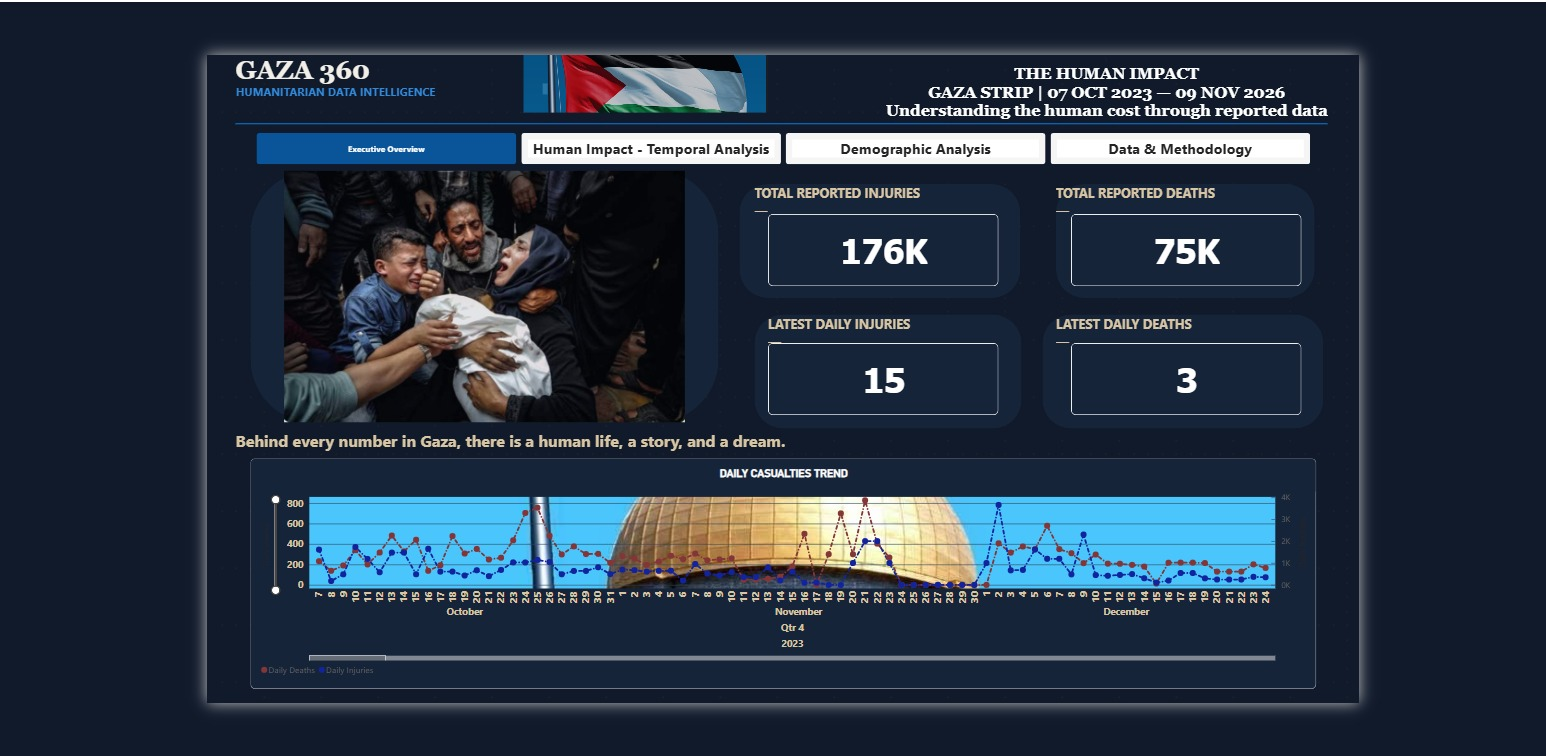

What the dashboard file says about the page in this screenshot:
{"tool":"powerbi","page":{"name":"Executive Overview","canvas":[1920,1080],"ordinal":0},"visuals":[{"type":"textbox","box":[48,0,268.4,56.1],"z":0},{"type":"textbox","box":[48,48,520,28],"z":1000},{"type":"shape","box":[48,96,1820.1,39],"z":2000},{"type":"textbox","box":[1128,0,744,120],"z":3000},{"type":"shape","box":[72,192,780,420],"z":4000},{"type":"shape","box":[1392,432,468,190],"z":5000},{"type":"shape","box":[888,216,468,190],"z":6000},{"type":"shape","box":[912,432,445,190],"z":7000},{"type":"shape","box":[1416,216,431,190],"z":8000},{"type":"textbox","box":[1416,216,288,72],"z":9000},{"type":"textbox","box":[936,432,264,72],"z":10000},{"type":"textbox","box":[1416,432,264,72],"z":11000},{"type":"textbox","box":[912,216,288,72],"z":12000},{"type":"cardVisual","fields":{"Data":["gold fact_daily_casualties.Latest Daily Deaths"]},"box":[1440,480,384,120],"z":13000},{"type":"cardVisual","fields":{"Data":["gold fact_daily_casualties.Total Reported Injuries"]},"box":[936,264,384,120],"z":14000},{"type":"cardVisual","fields":{"Data":["gold fact_daily_casualties.Latest Daily Injuries"]},"box":[936,480,384,120],"z":15000},{"type":"cardVisual","fields":{"Data":["gold fact_daily_casualties.Total Reported Deaths"]},"box":[1440,264,384,120],"z":16000},{"type":"image","box":[72,192,780,420],"z":17000},{"type":"textbox","box":[48,624,960,48],"z":18000},{"type":"lineChart","title":"DAILY CASUALTIES TREND","fields":{"Category":["gold dim_date.date_key.Variation.Date Hierarchy.Year","gold dim_date.date_key.Variation.Date Hierarchy.Quarter","gold dim_date.date_key.Variation.Date Hierarchy.Month","gold dim_date.date_key.Variation.Date Hierarchy.Day"],"Y":["gold fact_daily_casualties.Daily Deaths"],"Y2":["gold fact_daily_casualties.Daily Injuries"]},"box":[72,672,1776,384],"z":19000},{"type":"image","box":[528,0,408,96],"z":20000},{"type":"pageNavigator","box":[72,120,1776,72],"z":21000}]}

Visuals, with their boxes on the page's 1920x1080 design canvas (x1, y1, x2, y2). These are canvas units, not pixel positions in the 1546x756 screenshot, which may show the page scaled, cropped or inside an application window:
textbox: rect(48, 0, 316, 56)
textbox: rect(48, 48, 568, 76)
shape: rect(48, 96, 1868, 135)
textbox: rect(1128, 0, 1872, 120)
shape: rect(72, 192, 852, 612)
shape: rect(1392, 432, 1860, 622)
shape: rect(888, 216, 1356, 406)
shape: rect(912, 432, 1357, 622)
shape: rect(1416, 216, 1847, 406)
textbox: rect(1416, 216, 1704, 288)
textbox: rect(936, 432, 1200, 504)
textbox: rect(1416, 432, 1680, 504)
textbox: rect(912, 216, 1200, 288)
cardVisual - gold fact_daily_casualties.Latest Daily Deaths: rect(1440, 480, 1824, 600)
cardVisual - gold fact_daily_casualties.Total Reported Injuries: rect(936, 264, 1320, 384)
cardVisual - gold fact_daily_casualties.Latest Daily Injuries: rect(936, 480, 1320, 600)
cardVisual - gold fact_daily_casualties.Total Reported Deaths: rect(1440, 264, 1824, 384)
image: rect(72, 192, 852, 612)
textbox: rect(48, 624, 1008, 672)
"DAILY CASUALTIES TREND" lineChart: rect(72, 672, 1848, 1056)
image: rect(528, 0, 936, 96)
pageNavigator: rect(72, 120, 1848, 192)
